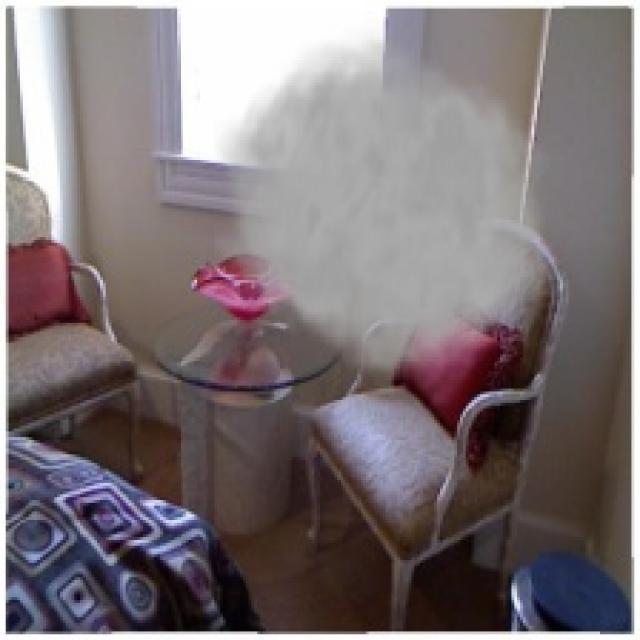Smoke: (214, 20, 566, 389)
